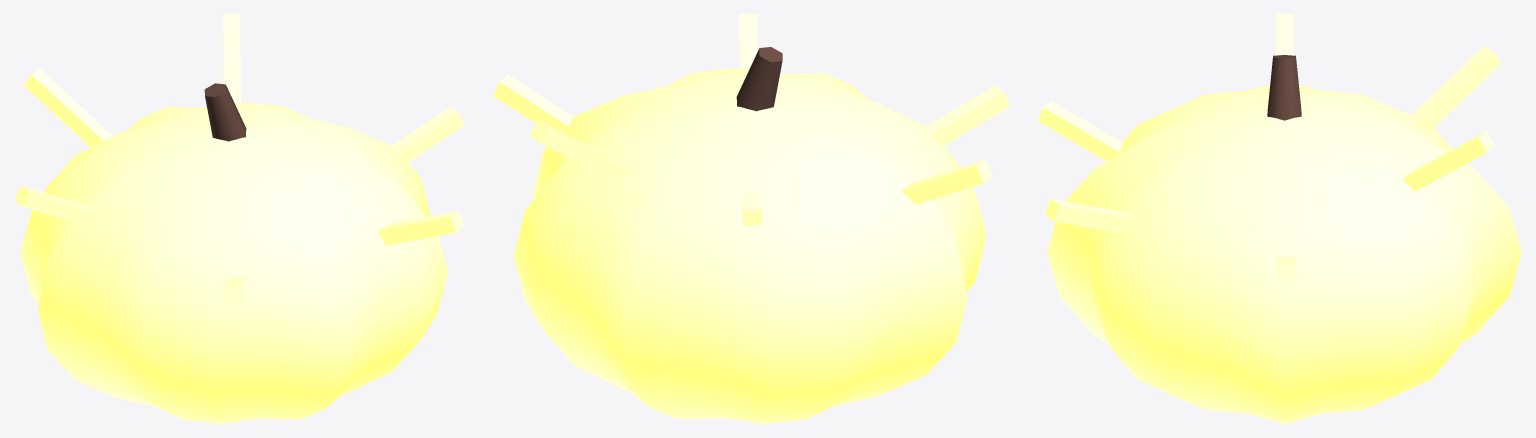
Rendered from fruit-pumpkin-shocked.gltf.
3 views of the same model, side by side, from view 1: azimuth 30°, elevation 25°; view 2: azimuth 150°, elevation 25°; view 3: azimuth 270°, elevation 25° (orthographic). The views are drawn at different scales.
Bounding box in the file's own units: 1.22 × 0.826 × 1.1.
